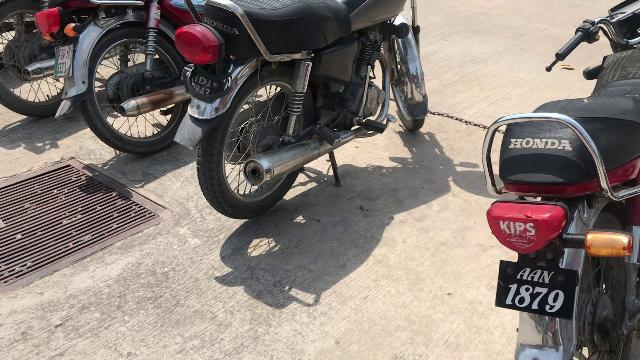plate: (497, 258, 575, 320)
